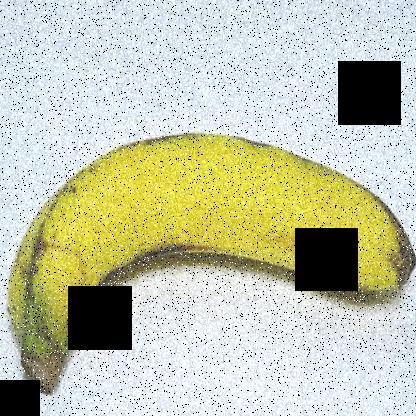freshripe: (4, 117, 415, 403)
